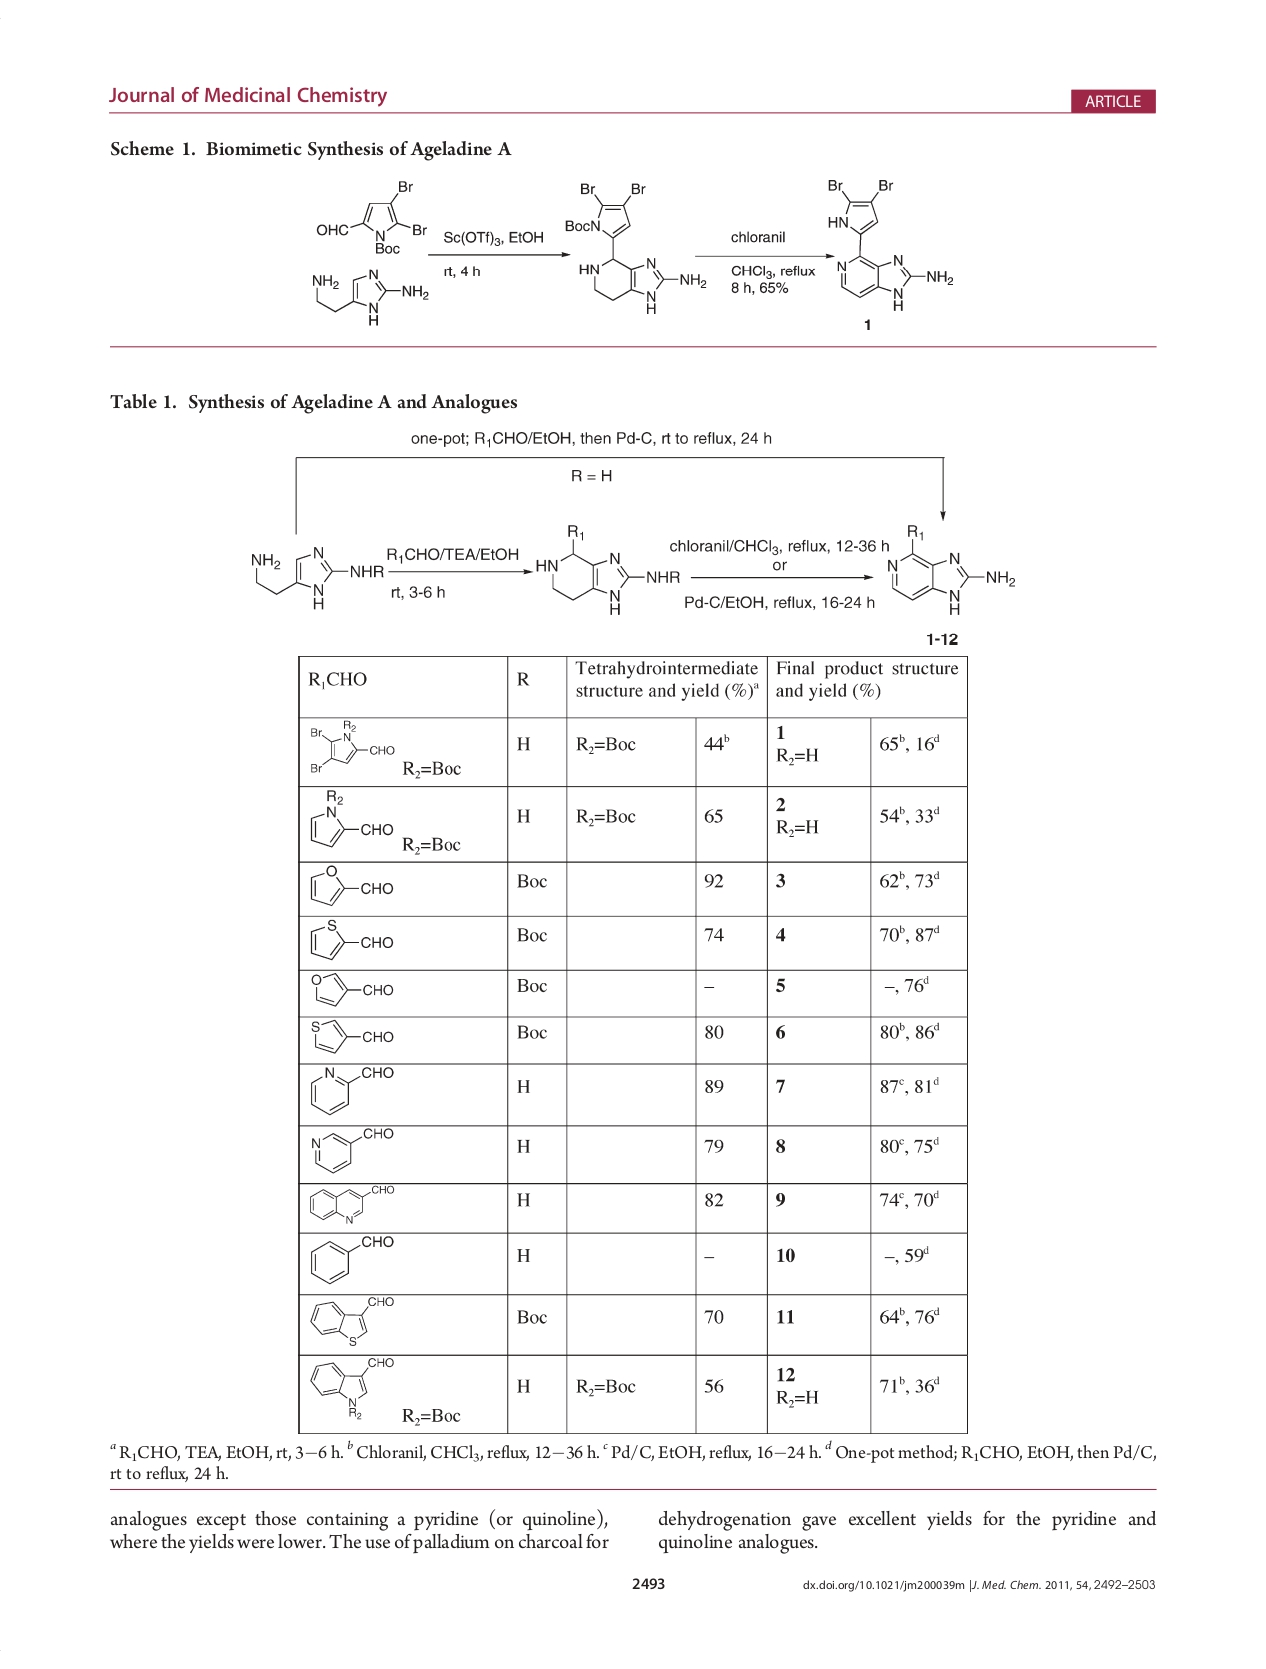exist_molecular: (563, 180, 710, 314), (824, 176, 956, 314), (533, 523, 684, 618), (886, 521, 1021, 616), (313, 174, 430, 257), (246, 543, 387, 610), (310, 265, 434, 327), (306, 1356, 396, 1422), (306, 789, 396, 851), (306, 718, 396, 778), (306, 1233, 396, 1286), (307, 1297, 396, 1348), (306, 1067, 394, 1117), (305, 918, 396, 964), (309, 1126, 394, 1174), (307, 864, 396, 908), (309, 1185, 398, 1226), (309, 971, 398, 1009), (309, 1017, 396, 1055)
